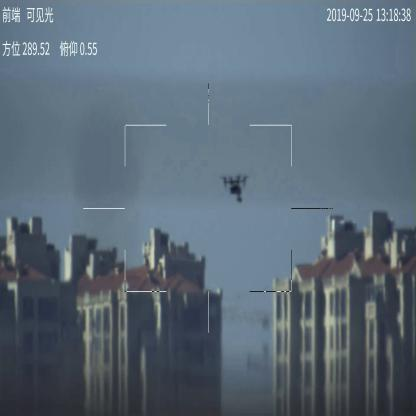uav: (219, 173, 250, 203)
